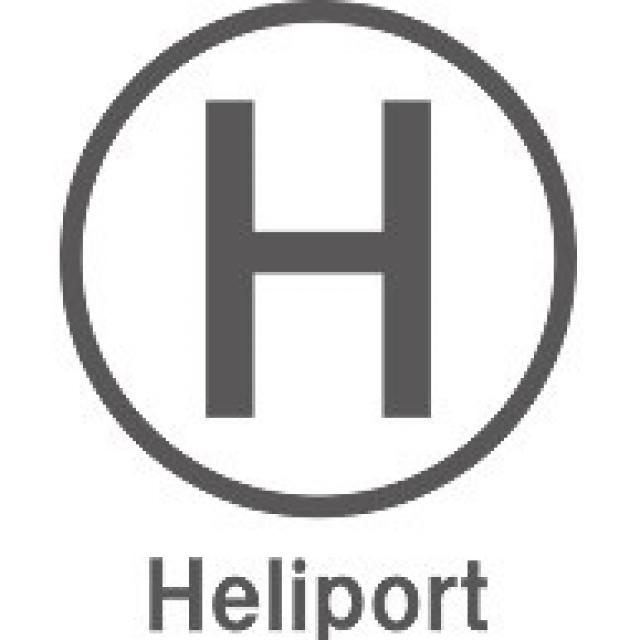helipad: (49, 0, 580, 517)
